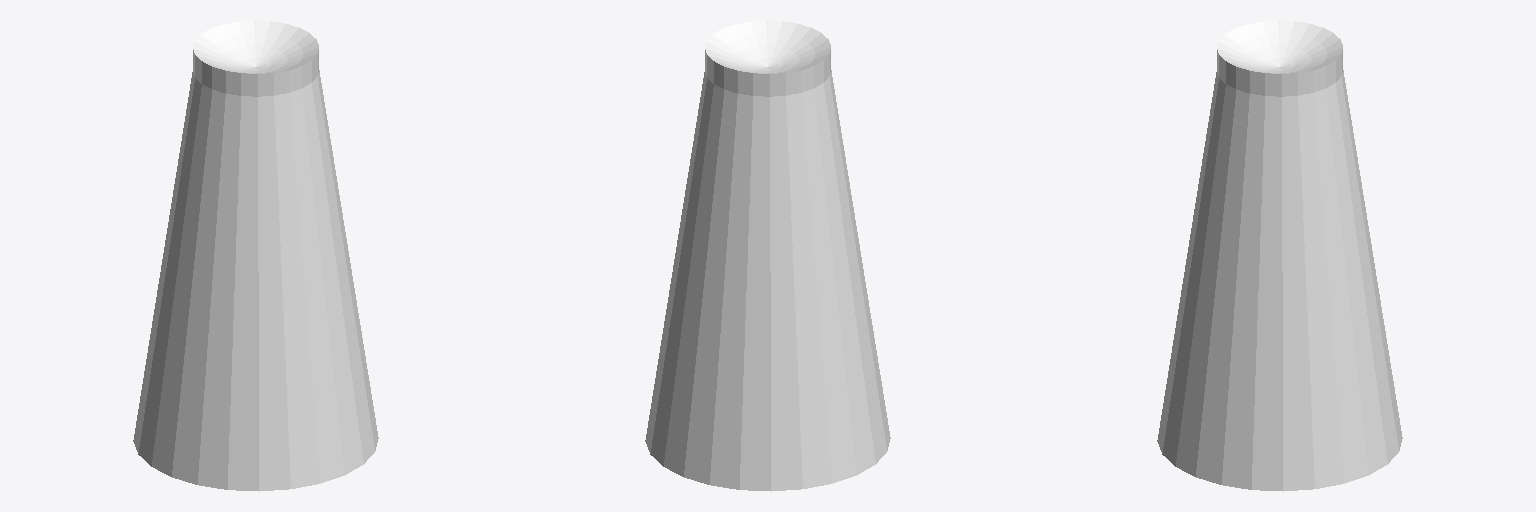
The robot description file, URDF, robot "cup_0004.urdf":
<?xml version="1.0" ?>
<robot name="cup_0004.urdf">
  <link name="baseLink">
    <contact>
      <lateral_friction value="1.0"/>
      <inertia_scaling value="1.0"/>
    </contact>
    <inertial>
      <origin rpy="0 0 0" xyz="0 0 0"/>
       <mass value="1"/>
       <inertia ixx="0.01" ixy="0" ixz="0" iyy="0.01" iyz="0" izz="0.01"/>
    </inertial>
    <visual>
      <origin rpy="0 0 0" xyz="0 0 0"/>
      <geometry>
				<mesh filename="cup_0004_origin_transform.obj" scale="1 1 1"/>
      </geometry>
       <material name="white">
        <color rgba="1 1 1 1"/>
      </material>
    </visual>
    <collision>
      <origin rpy="0 0 0" xyz="0 0 0"/>
      <geometry>
	 	<mesh filename="cup_0004_vhacd_transform.obj" scale="1 1 1"/>
      </geometry>
    </collision>
  </link>
</robot>

--- What the picture shows (computed from the rendered views, not written in the file) ---
The picture shows the robot from 3 angles, left to right: view 1: azimuth 30°, elevation 25°; view 2: azimuth 150°, elevation 25°; view 3: azimuth 270°, elevation 25°; orthographic projection.
Model cup_0004.urdf with 1 links and 0 joints (none), rooted at baseLink, posed all joints at 0.
Links seen in each view (by area): view 1: baseLink; view 2: baseLink; view 3: baseLink.
Link boxes in pixels (box(x1,y1,x2,y2)): baseLink: box(133, 20, 378, 491); baseLink: box(645, 20, 890, 491); baseLink: box(1157, 20, 1402, 491).
Size in the robot's own frame: 0.085 by 0.085 by 0.15 metres.
Meshes: 1 distinct files referenced, 1 mesh visuals loaded (1 OBJ).